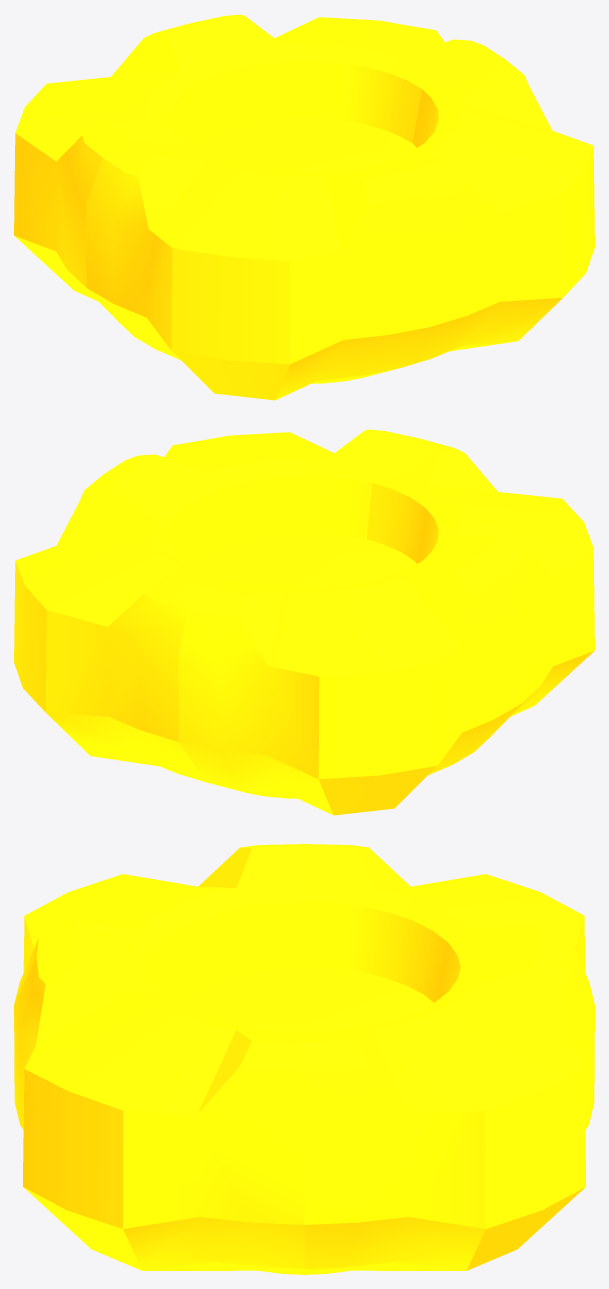
The model's file is 01_yard_light_aegis.glb.
3 renders of one model, top to bottom at view 1: azimuth 30°, elevation 25°; view 2: azimuth 150°, elevation 25°; view 3: azimuth 270°, elevation 25°, orthographic. The views are drawn at different scales.
Parts seen in each view (by area): view 1: 01_yard_light_aegis; view 2: 01_yard_light_aegis; view 3: 01_yard_light_aegis.
Boxes of the visible parts, x1,y1,x2,y2 form: 01_yard_light_aegis: (14, 14, 594, 400); 01_yard_light_aegis: (14, 429, 594, 815); 01_yard_light_aegis: (14, 844, 594, 1274).
Size of the model in its own units: 1.01 by 0.5276 by 1.01.
